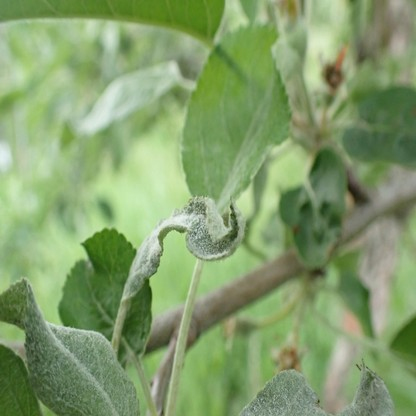powdery_mildew: (1, 277, 139, 416), (124, 195, 245, 296), (238, 363, 398, 416)
